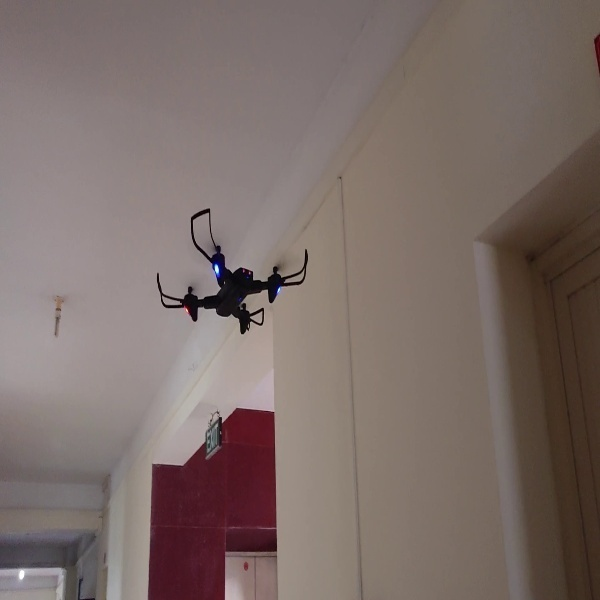drone: (158, 204, 310, 341)
